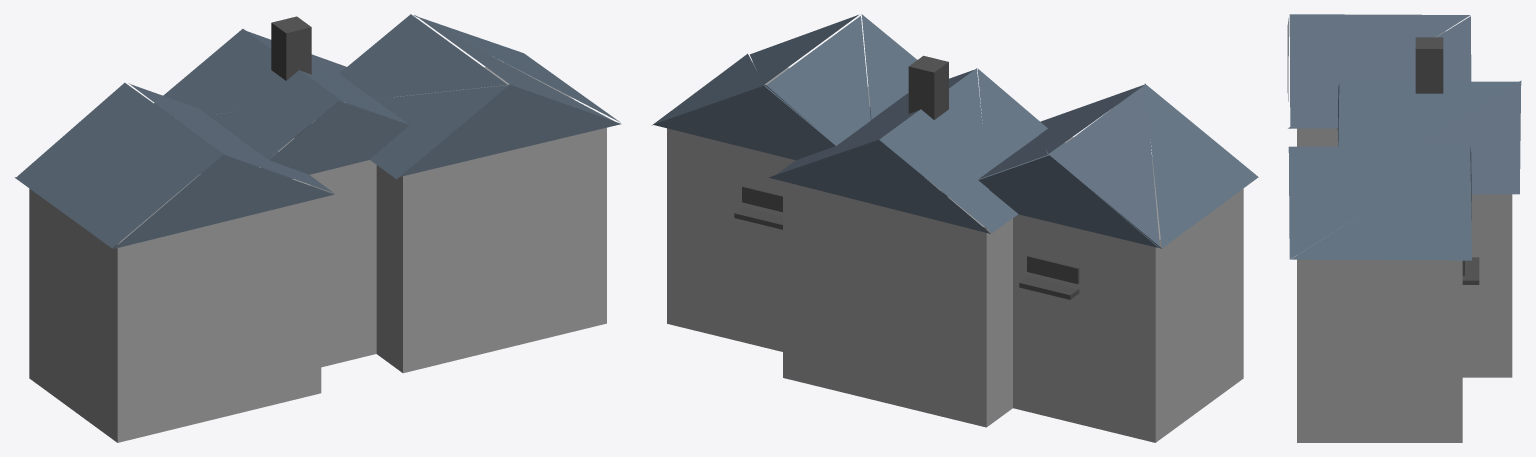
Rendered from mansion_t3.glb.
The picture shows the model from 3 angles, left to right: view 1: azimuth 30°, elevation 25°; view 2: azimuth 150°, elevation 25°; view 3: azimuth 270°, elevation 25°; orthographic projection. The views are drawn at different scales.
Visible parts, largest first — view 1: building-mansion; view 2: building-mansion; view 3: building-mansion.
Boxes of the visible parts, bbox=[...] form: building-mansion: bbox=[14, 14, 621, 442]; building-mansion: bbox=[652, 14, 1258, 442]; building-mansion: bbox=[1287, 14, 1521, 442].
Bounding box in the file's own units: 0.342 × 0.196 × 0.1449.
